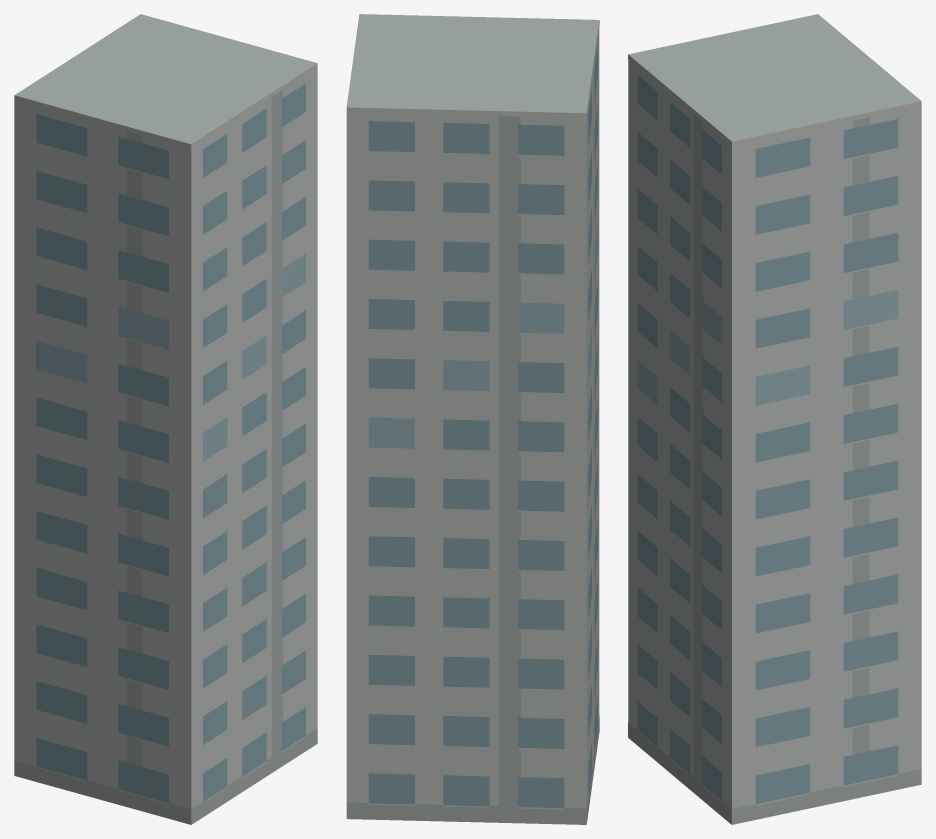
Rendered from residential-b7997b23-7e10-44bc-ab8a-621f385e4ab4.glb.
The picture shows the model from 3 angles, left to right: view 1: azimuth 30°, elevation 25°; view 2: azimuth 150°, elevation 25°; view 3: azimuth 270°, elevation 25°; orthographic projection. The views are drawn at different scales.
Visible parts, largest first — view 1: residential-b7997b23-7e10-44bc-ab8a-621f385e4ab4.tmp; view 2: residential-b7997b23-7e10-44bc-ab8a-621f385e4ab4.tmp; view 3: residential-b7997b23-7e10-44bc-ab8a-621f385e4ab4.tmp.
Boxes of the visible parts, bbox=[...] form: residential-b7997b23-7e10-44bc-ab8a-621f385e4ab4.tmp: bbox=[14, 14, 317, 824]; residential-b7997b23-7e10-44bc-ab8a-621f385e4ab4.tmp: bbox=[346, 14, 599, 824]; residential-b7997b23-7e10-44bc-ab8a-621f385e4ab4.tmp: bbox=[628, 14, 921, 824].
Size of the model in its own units: 13.62 by 34 by 13.25.
